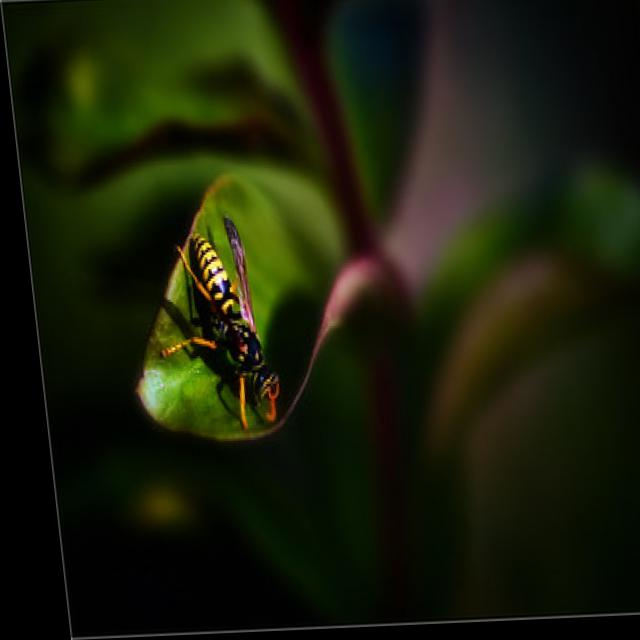Guepe: (143, 203, 289, 448)
